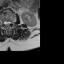CCS_normal: (6, 19, 8, 28)
LFS_normal: (10, 18, 12, 25)
LLS_normal: (8, 19, 10, 26)
RFS_normal: (2, 19, 4, 26)
RLS_normal: (4, 19, 6, 27)
